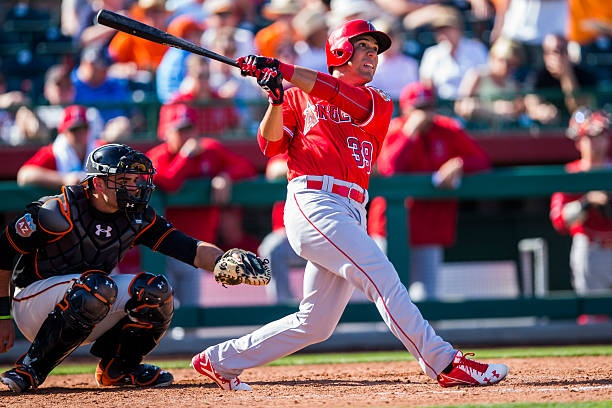bita: (98, 11, 275, 76)
